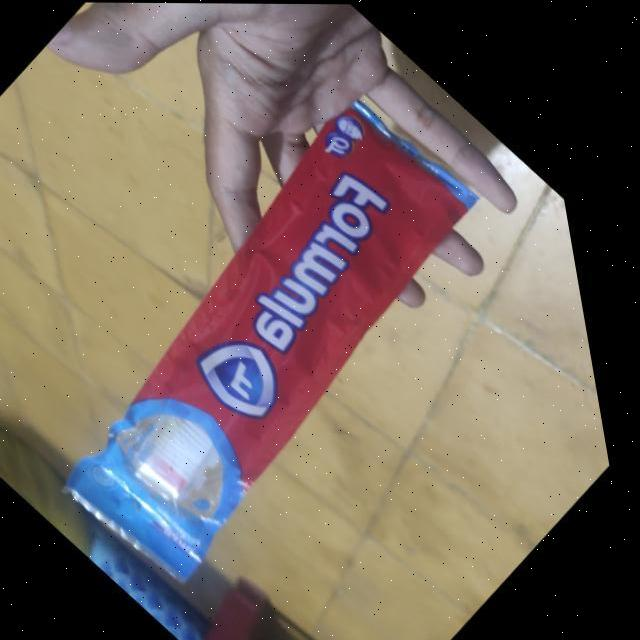toothbrush: (124, 134, 450, 517)
